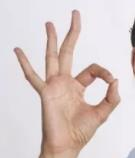left: (10, 8, 123, 149)
